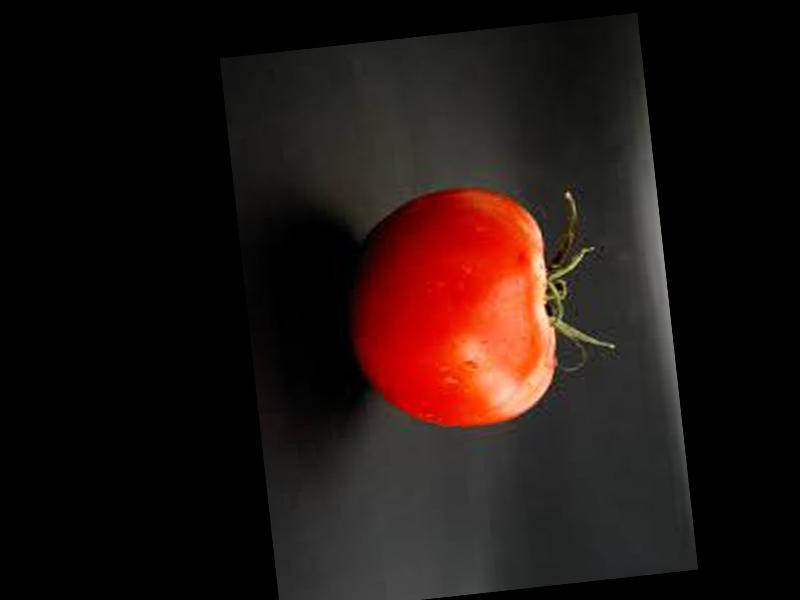Tomato: (339, 181, 563, 440)
